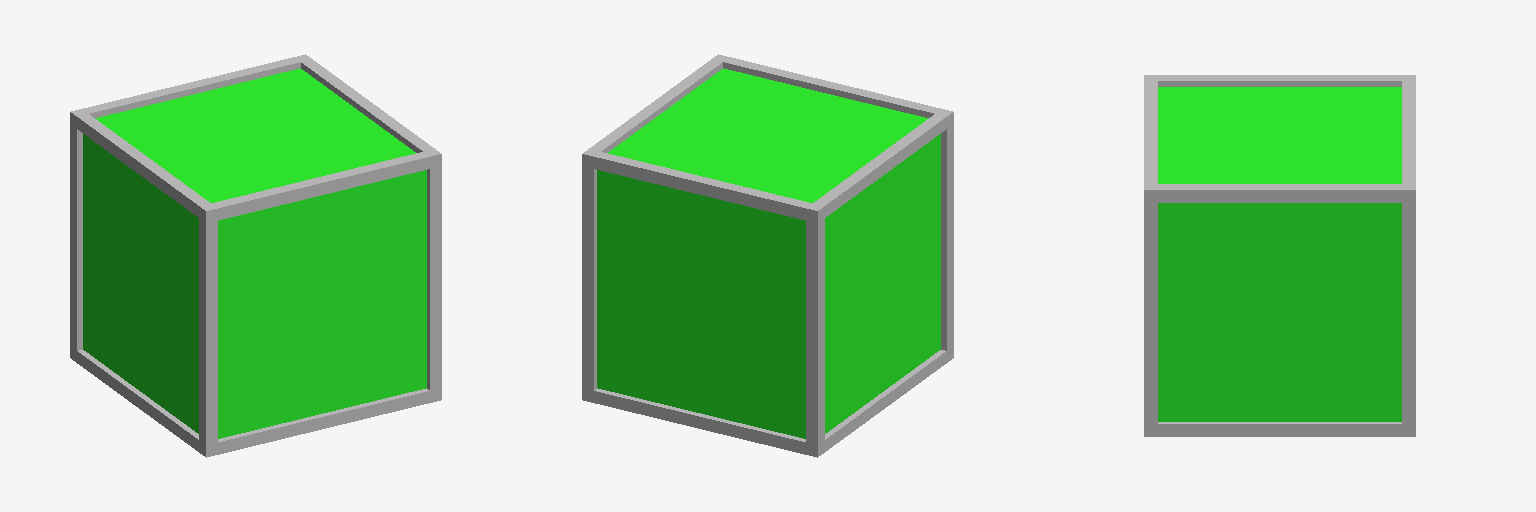
File: glass_green.obj
3 renders of one model, left to right at view 1: azimuth 30°, elevation 25°; view 2: azimuth 150°, elevation 25°; view 3: azimuth 270°, elevation 25°, orthographic.
Parts seen in each view (by area): view 1: glass_geo, glass_geo.001; view 2: glass_geo, glass_geo.001; view 3: glass_geo, glass_geo.001.
Boxes of the visible parts, x1=… form: glass_geo: x1=83, y1=68, x2=426, y2=438; glass_geo.001: x1=70, y1=54, x2=441, y2=457; glass_geo: x1=597, y1=68, x2=940, y2=438; glass_geo.001: x1=582, y1=54, x2=953, y2=457; glass_geo: x1=1158, y1=87, x2=1401, y2=421; glass_geo.001: x1=1144, y1=75, x2=1415, y2=436.
Bounding box in the file's own units: 1 × 1 × 1.